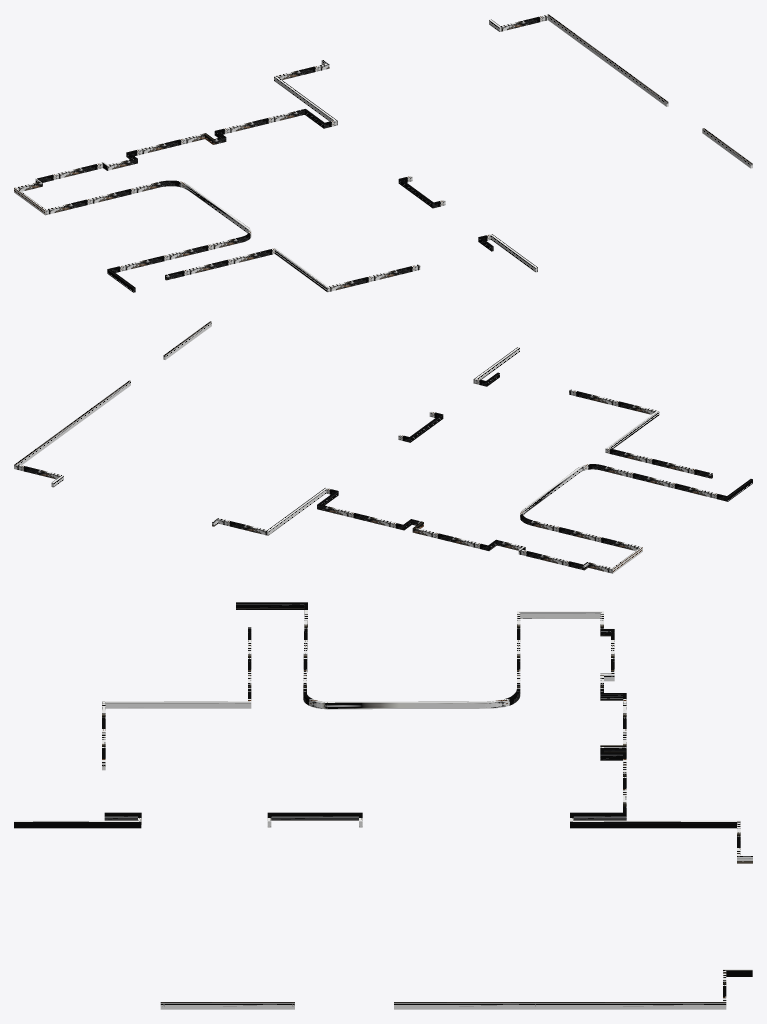
File: hotelhamilton_7.obj
The picture shows the model from 3 angles, top to bottom: view 1: azimuth 30°, elevation 25°; view 2: azimuth 150°, elevation 25°; view 3: azimuth 270°, elevation 25°; orthographic projection. The views are drawn at different scales.
Bounding box in the file's own units: 13.5 × 0.1001 × 10.51.
